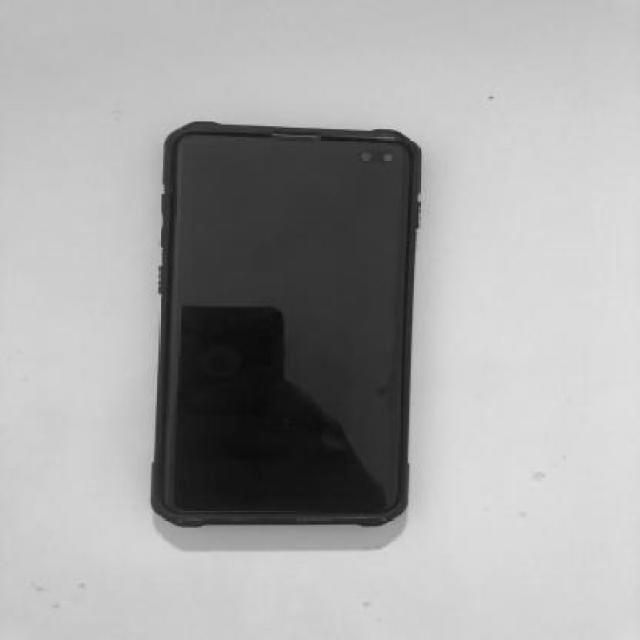fake: (145, 120, 413, 528)
